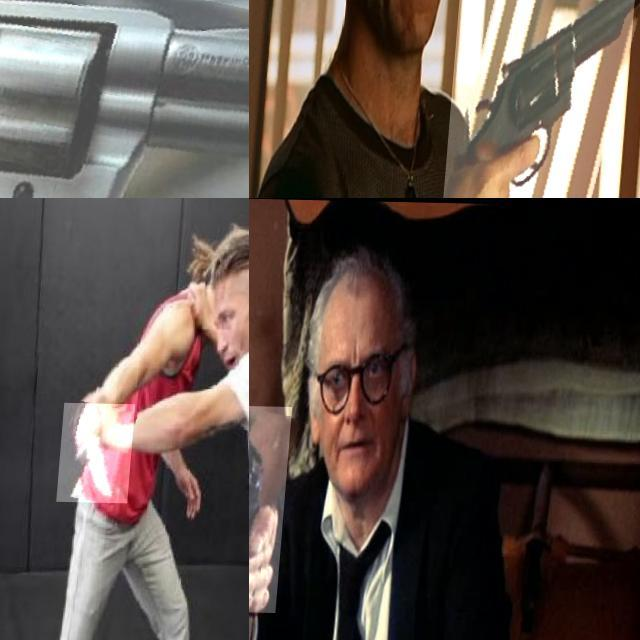-: (62, 402, 139, 502)
gun-knife-thesis - v11 Yolov5 augmented: (0, 0, 249, 198), (445, 0, 640, 198), (249, 404, 307, 612)
